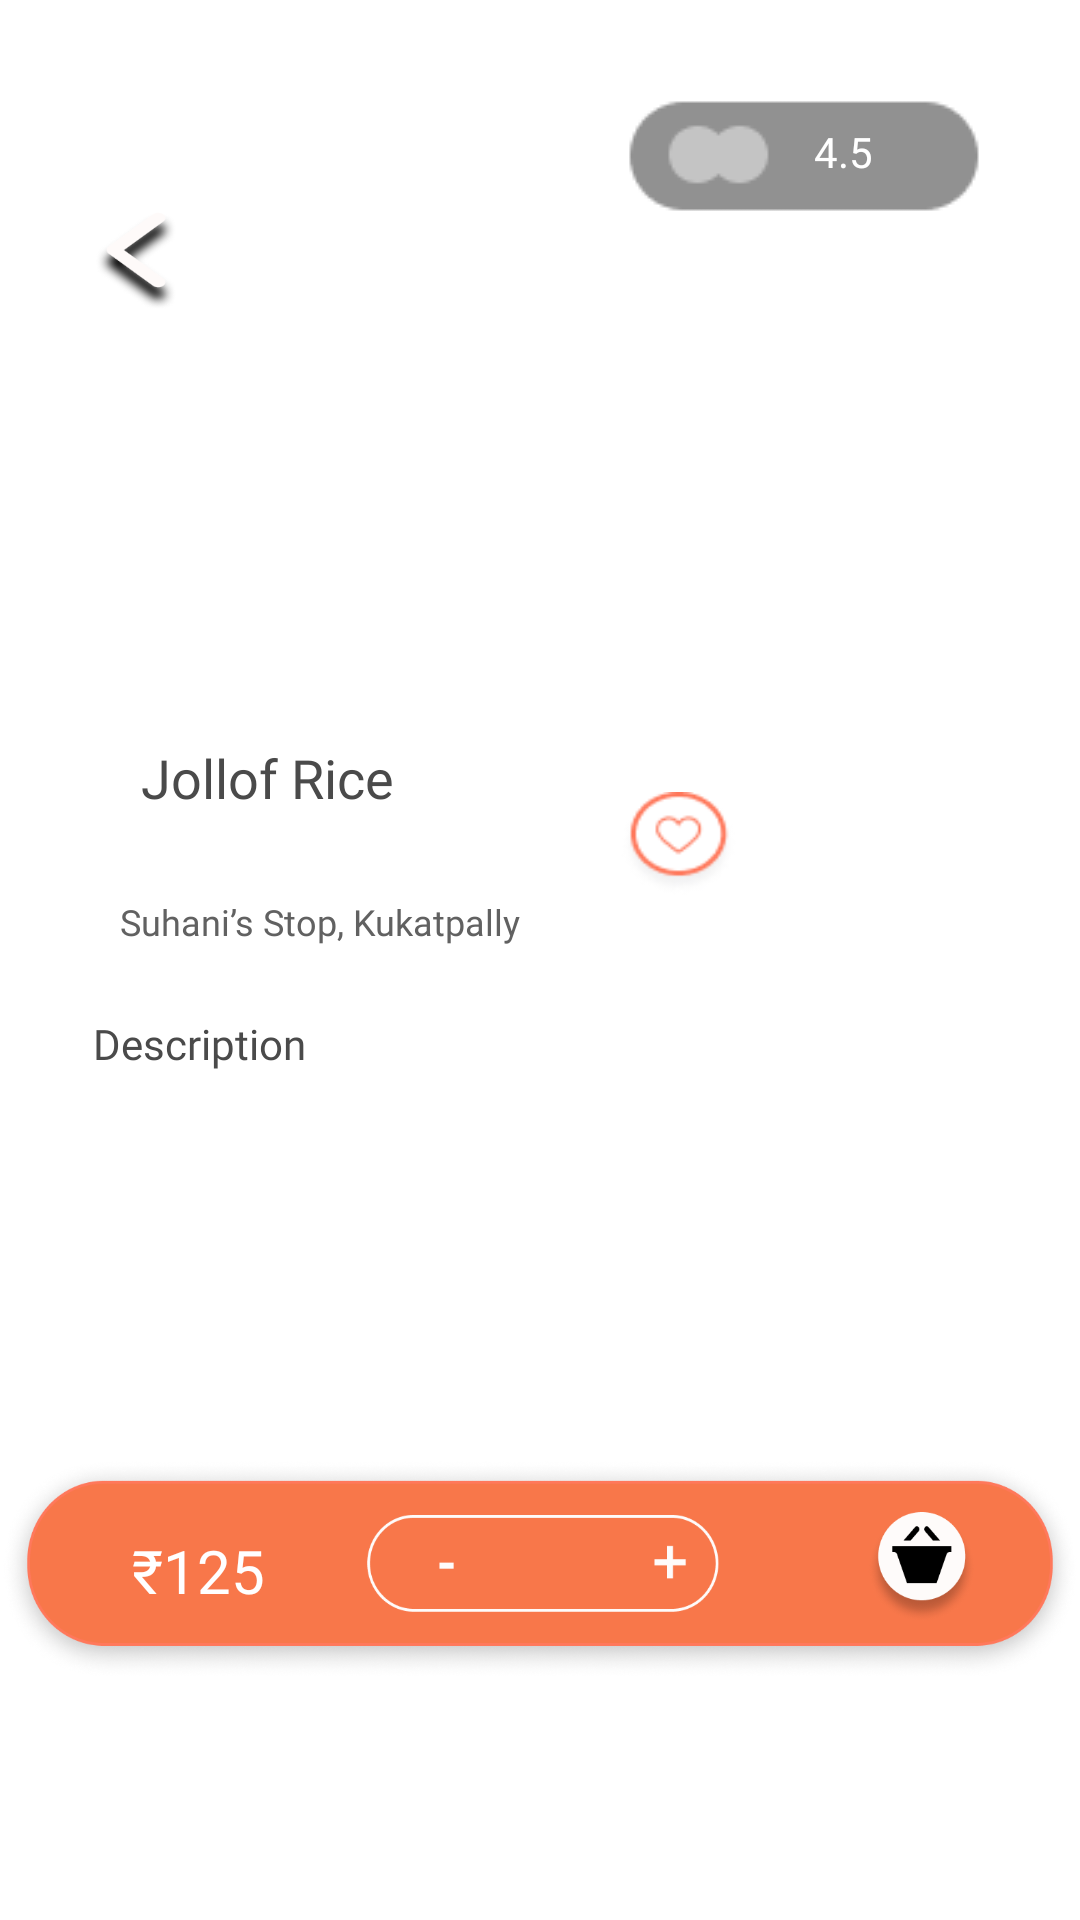

Screen size 1080 x 1920. Icon name, then its box in pixels as Rect(x1, y1, x2, y2):
favourite: Rect(630, 792, 728, 877)
strelka: Rect(102, 221, 170, 304)
